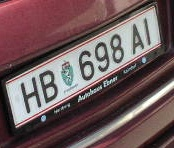6: (76, 51, 97, 80)
8: (109, 34, 124, 63)
9: (94, 42, 109, 73)
A: (129, 23, 146, 55)
B: (37, 72, 59, 102)
H: (17, 77, 40, 112)
I: (141, 17, 155, 45)
